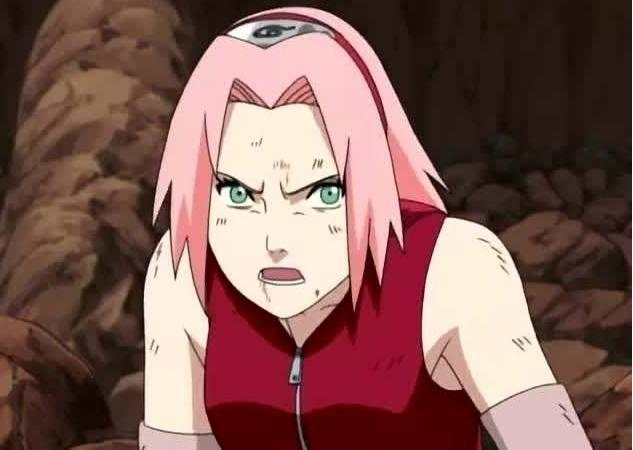sakura: (196, 10, 398, 326)
